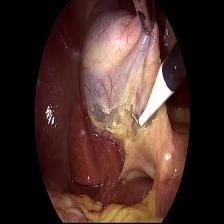Grasper: (131, 0, 157, 40)
Hook: (128, 68, 168, 142)
